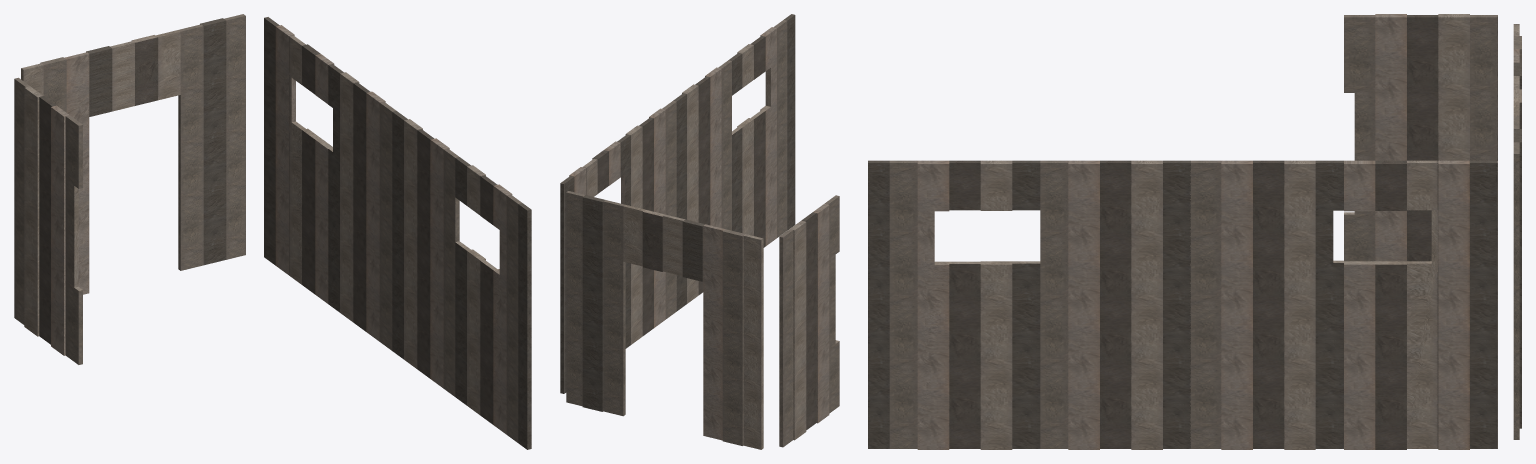
File: ShedWallFront.fbx
3 views of the same model, side by side, from view 1: azimuth 30°, elevation 25°; view 2: azimuth 150°, elevation 25°; view 3: azimuth 270°, elevation 25° (orthographic). The views are drawn at different scales.
Visible parts, largest first — view 1: ShedWallFront; view 2: ShedWallFront; view 3: ShedWallFront.
Part boxes in pixels (x1,y1,x2,y2): ShedWallFront: (14, 14, 531, 449); ShedWallFront: (560, 14, 839, 449); ShedWallFront: (868, 14, 1521, 449).
Bounding box in the file's own units: 360 × 321 × 664.
